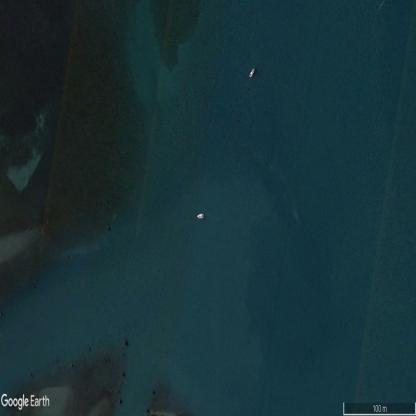ship: (249, 68, 255, 78), (197, 213, 204, 219)
